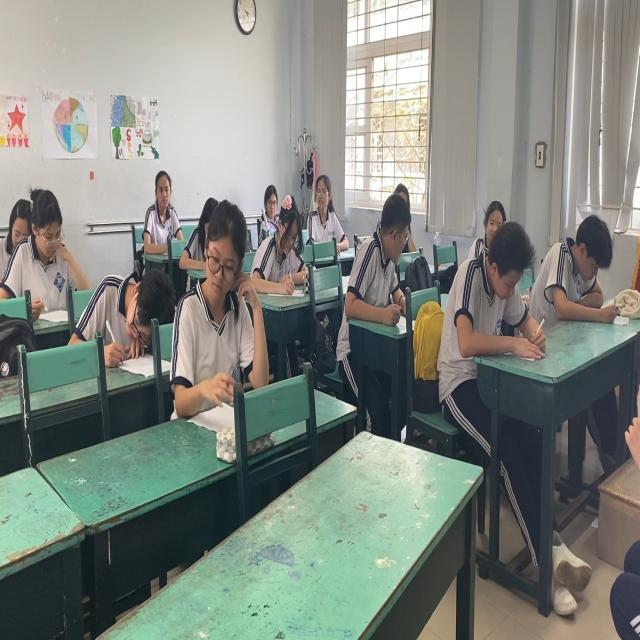cheating: (344, 179, 418, 313), (310, 172, 344, 258), (474, 186, 510, 237)
not_cheating: (461, 220, 547, 411), (182, 203, 260, 389), (0, 179, 88, 320), (88, 266, 177, 379), (536, 216, 616, 327), (251, 169, 307, 282), (142, 161, 177, 248)
